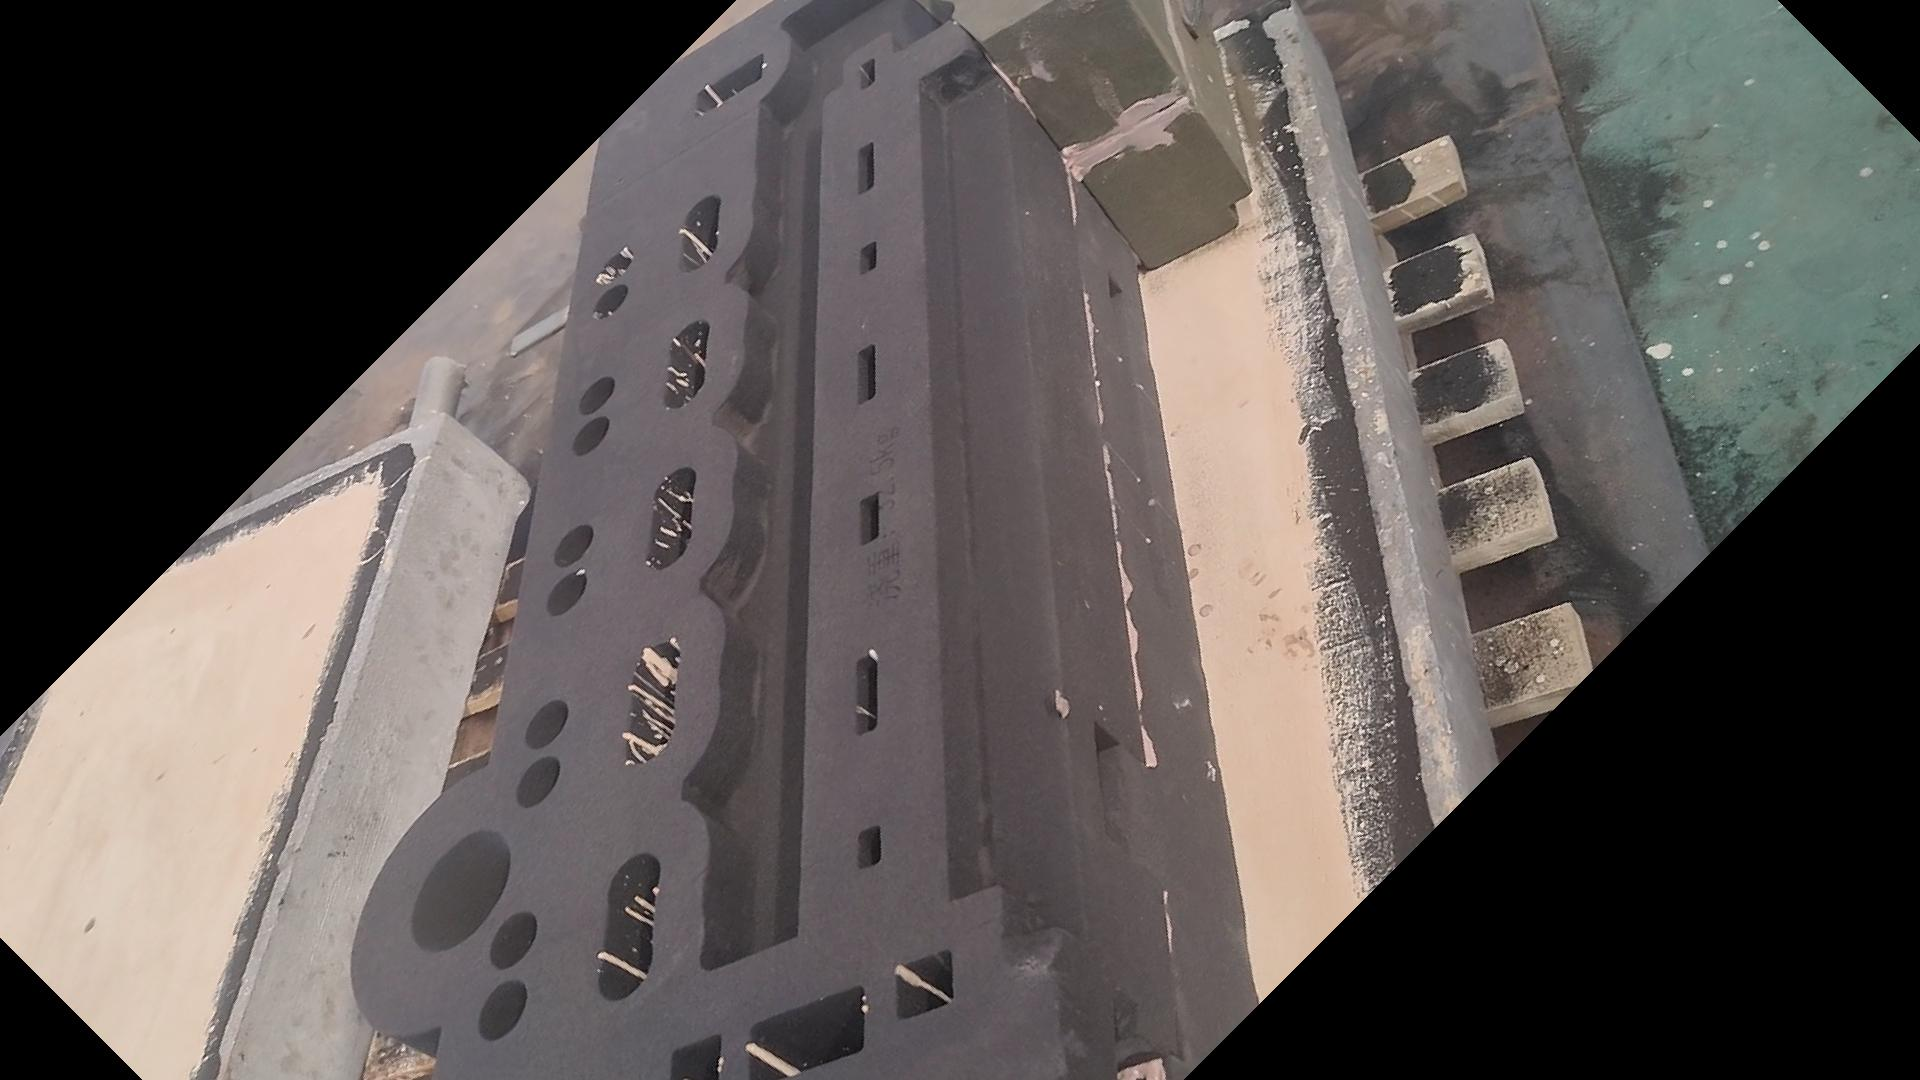pouring hole: (407, 828, 512, 951)
